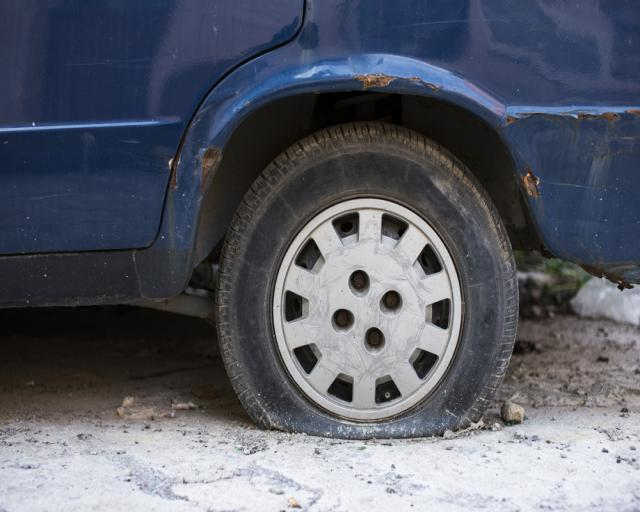tire flat: (213, 120, 518, 439)
